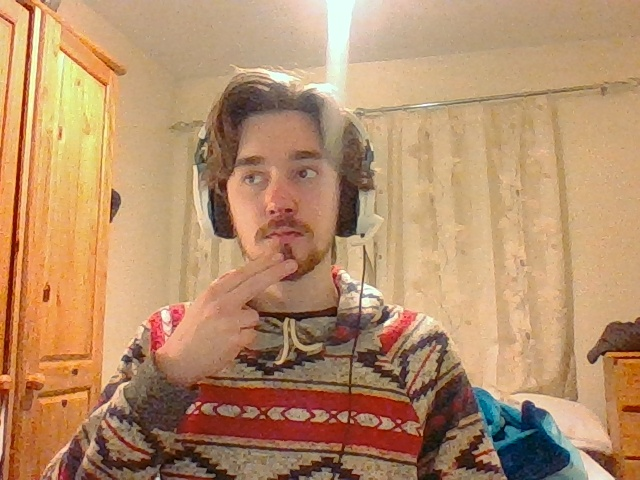afternoon: (158, 252, 297, 377)
